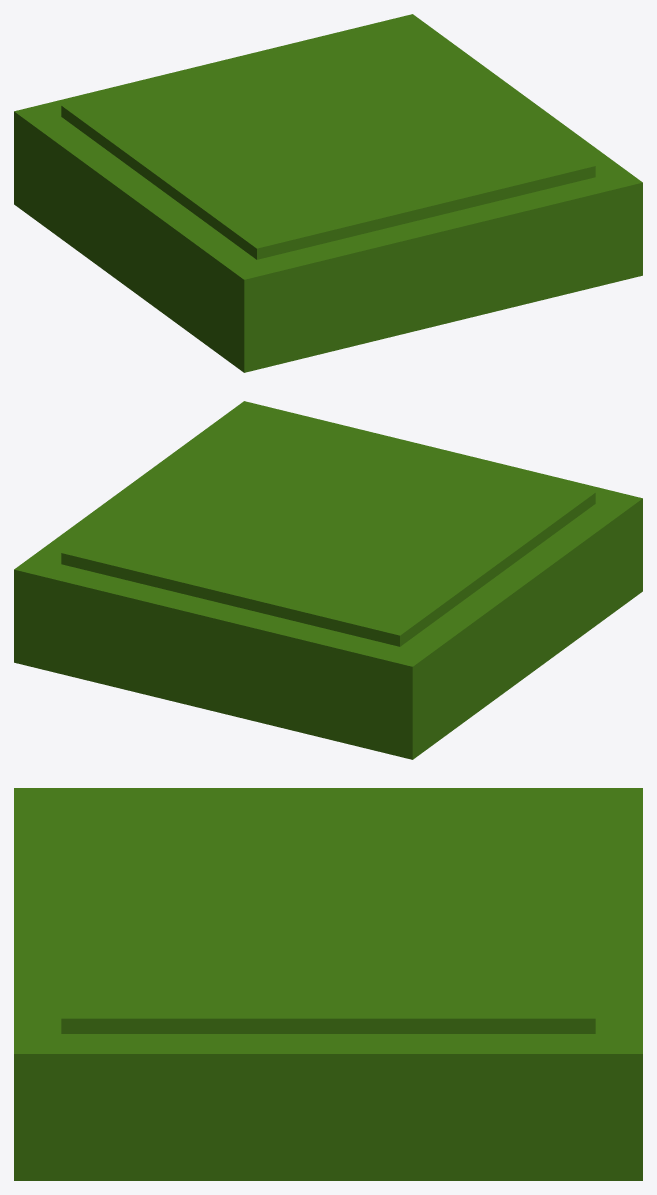
Rendered from avocado_floor_button.fbx.
The picture shows the model from 3 angles, top to bottom: view 1: azimuth 30°, elevation 25°; view 2: azimuth 150°, elevation 25°; view 3: azimuth 270°, elevation 25°; orthographic projection. The views are drawn at different scales.
Parts seen in each view (by area): view 1: Cube; view 2: Cube; view 3: Cube.
Part boxes in pixels (left/top/right/bottom): Cube: left=14, top=14, right=642, bottom=372; Cube: left=14, top=401, right=642, bottom=759; Cube: left=14, top=788, right=642, bottom=1180.
Bounding box in the file's own units: 80 × 20 × 80.
